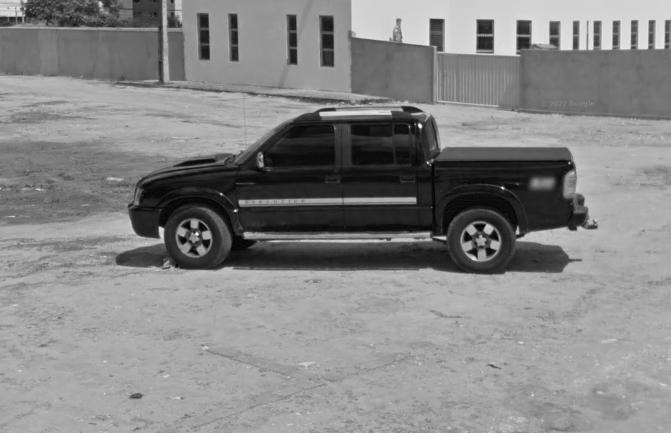car: (124, 101, 601, 276)
